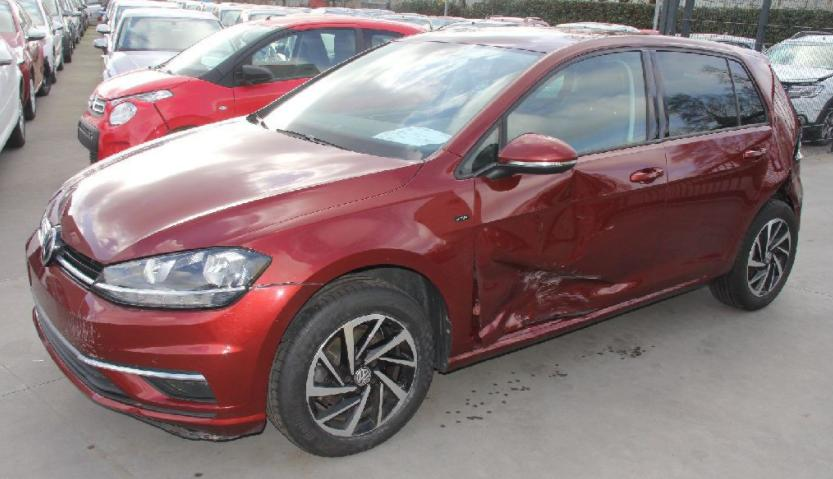Back-door: (647, 48, 771, 292)
Back-wheel: (712, 200, 799, 307)
Back-window: (658, 53, 737, 134), (730, 61, 763, 124)
Fender: (223, 150, 475, 358)
Front-bumper: (25, 229, 323, 439)
Front-door: (470, 47, 667, 347)
Front-wheel: (267, 277, 435, 454)
Front-window: (503, 47, 657, 155), (458, 121, 501, 177)
Grille: (38, 222, 102, 285)
Headlight: (131, 248, 265, 305)
Hood: (47, 117, 421, 262)
Mirror: (480, 135, 577, 177)
Quarter-panel: (726, 112, 801, 272)
Rocker-panel: (443, 268, 730, 371)
Roof: (399, 25, 766, 53)
Tail-light: (794, 130, 802, 162)
Windshield: (251, 40, 543, 161)
